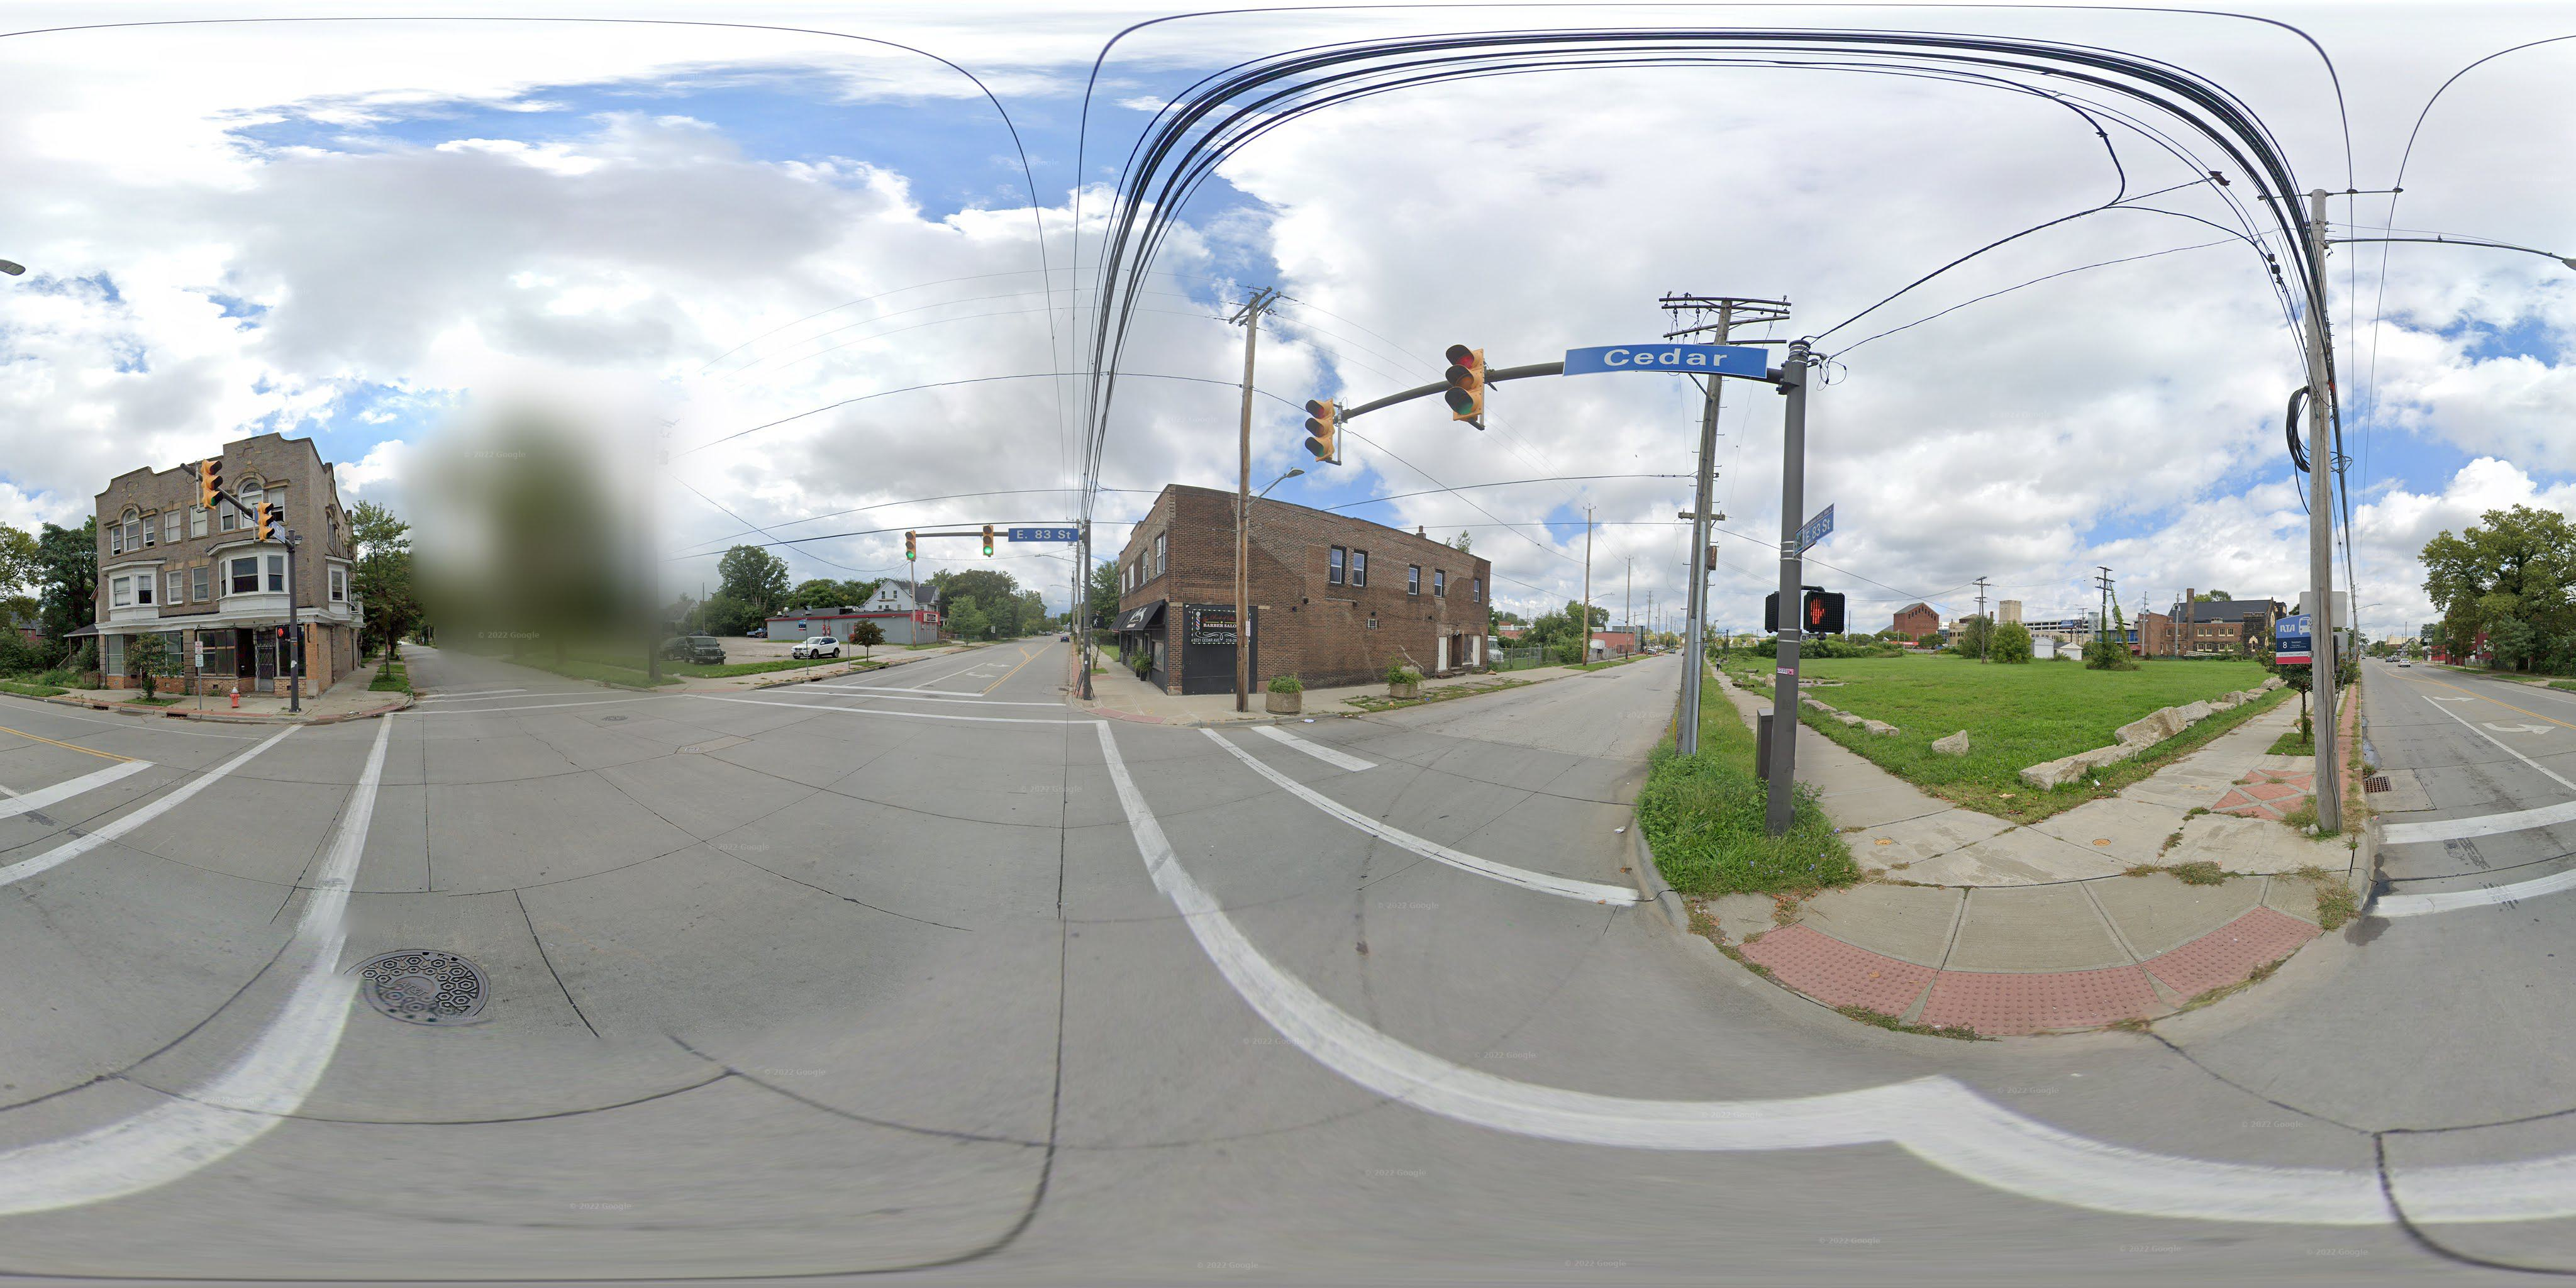Curb Ramp: (1694, 894, 2339, 1060), (1084, 700, 1170, 731), (657, 680, 747, 698)
Irregular Ramp: (302, 695, 407, 729)
